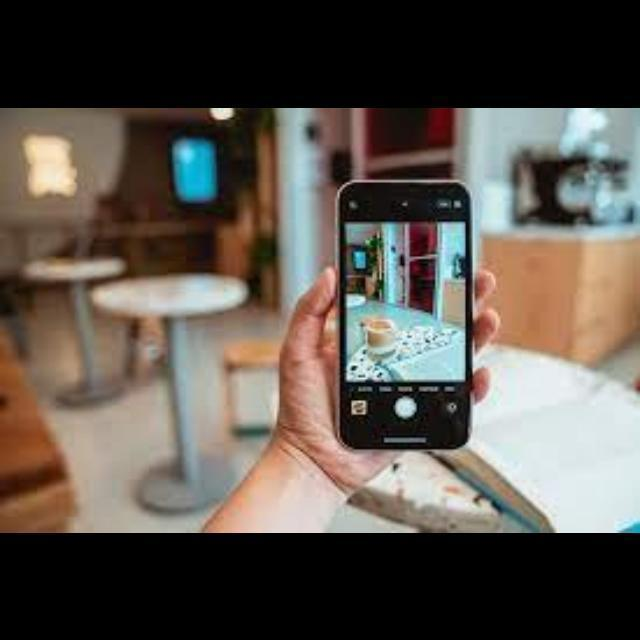phone: (337, 167, 476, 446)
